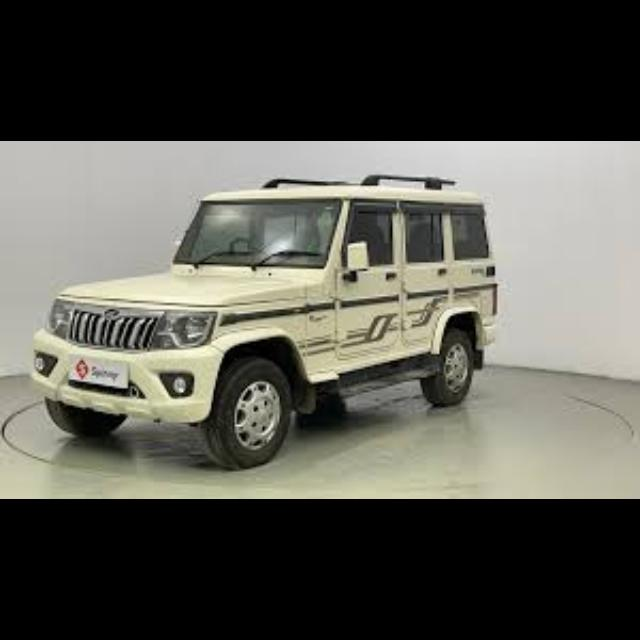number-plate: (66, 350, 130, 388)
vehicles: (31, 171, 500, 468)
